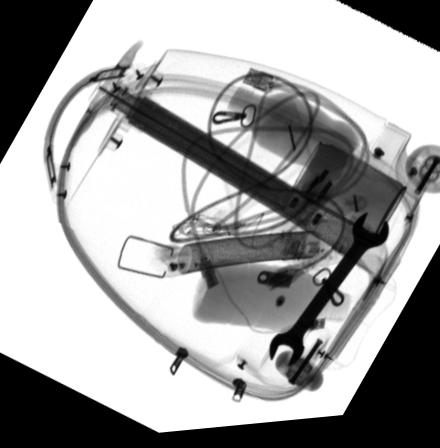Wrench: (268, 220, 389, 373)
